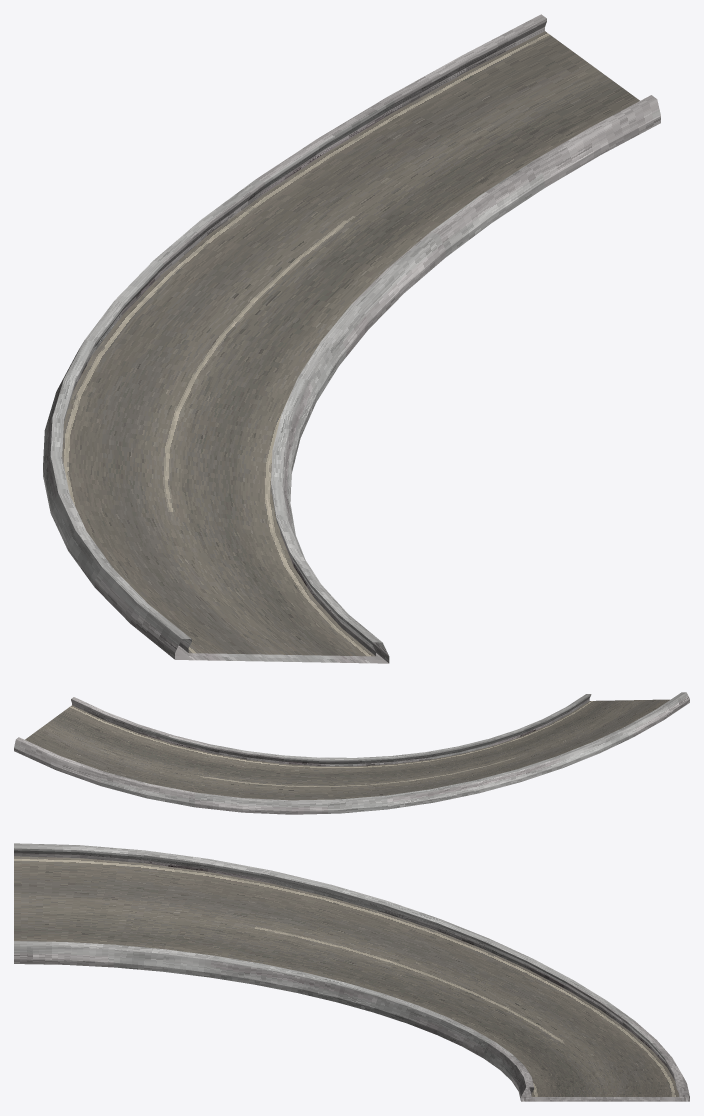
The model's file is road-Turn-HalfBankedRight-BiSlopeUp-Up2-Right-Size4.glb.
3 views of the same model, one above another, from view 1: azimuth 30°, elevation 25°; view 2: azimuth 150°, elevation 25°; view 3: azimuth 270°, elevation 25° (orthographic). The views are drawn at different scales.
Visible parts, largest first — view 1: road-Turn-HalfBankedRight-BiSlopeUp-Up2-Right-Size4; view 2: road-Turn-HalfBankedRight-BiSlopeUp-Up2-Right-Size4; view 3: road-Turn-HalfBankedRight-BiSlopeUp-Up2-Right-Size4.
Part boxes in pixels (x1,y1,x2,y2): road-Turn-HalfBankedRight-BiSlopeUp-Up2-Right-Size4: (43,14,660,663); road-Turn-HalfBankedRight-BiSlopeUp-Up2-Right-Size4: (14,692,689,814); road-Turn-HalfBankedRight-BiSlopeUp-Up2-Right-Size4: (14,843,689,1101).
Size of the model in its own units: 4 by 0.5937 by 4.
Materials: 2 (2 with a texture image).
